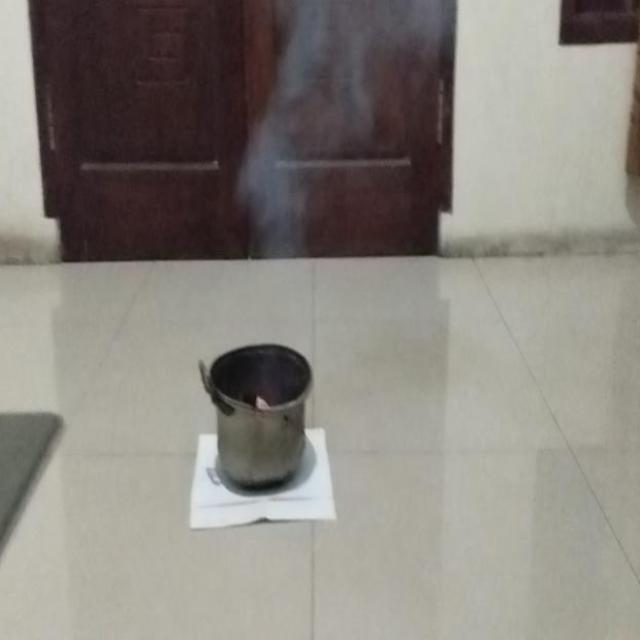fire: (240, 67, 358, 280), (277, 0, 452, 75)
